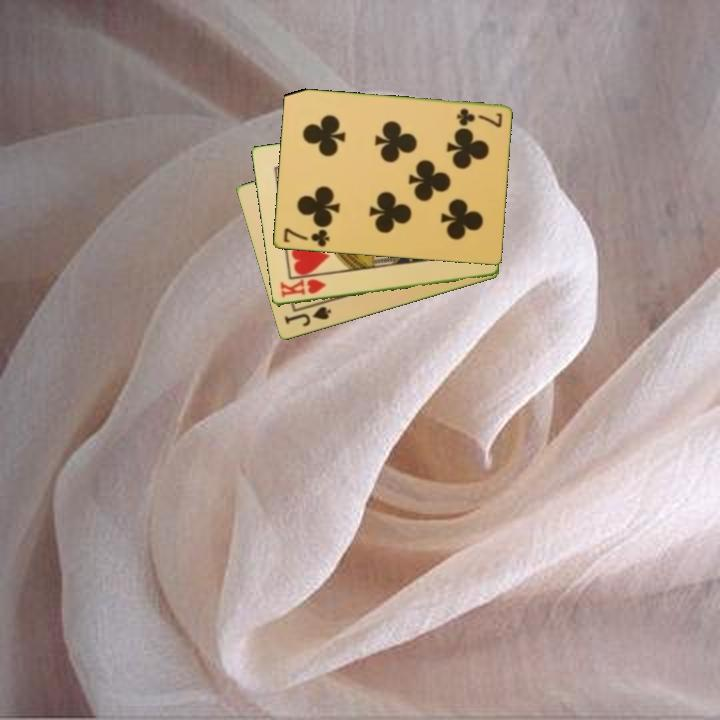7c: (280, 224, 332, 250), (453, 105, 505, 130)
Js: (281, 303, 334, 330)
Kh: (276, 276, 329, 300)
